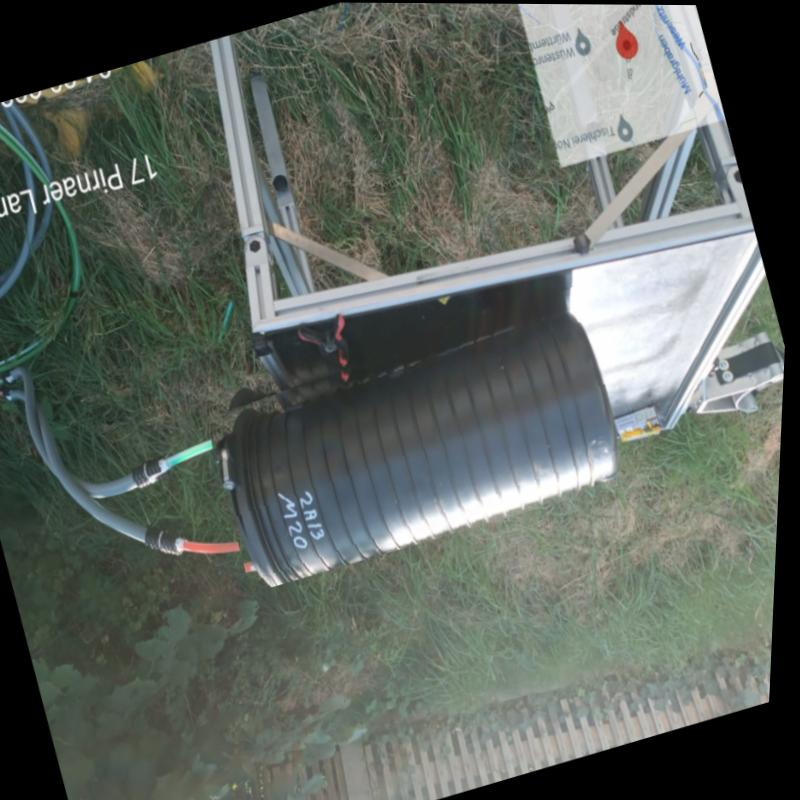NT-Muffen: (222, 307, 620, 585)
